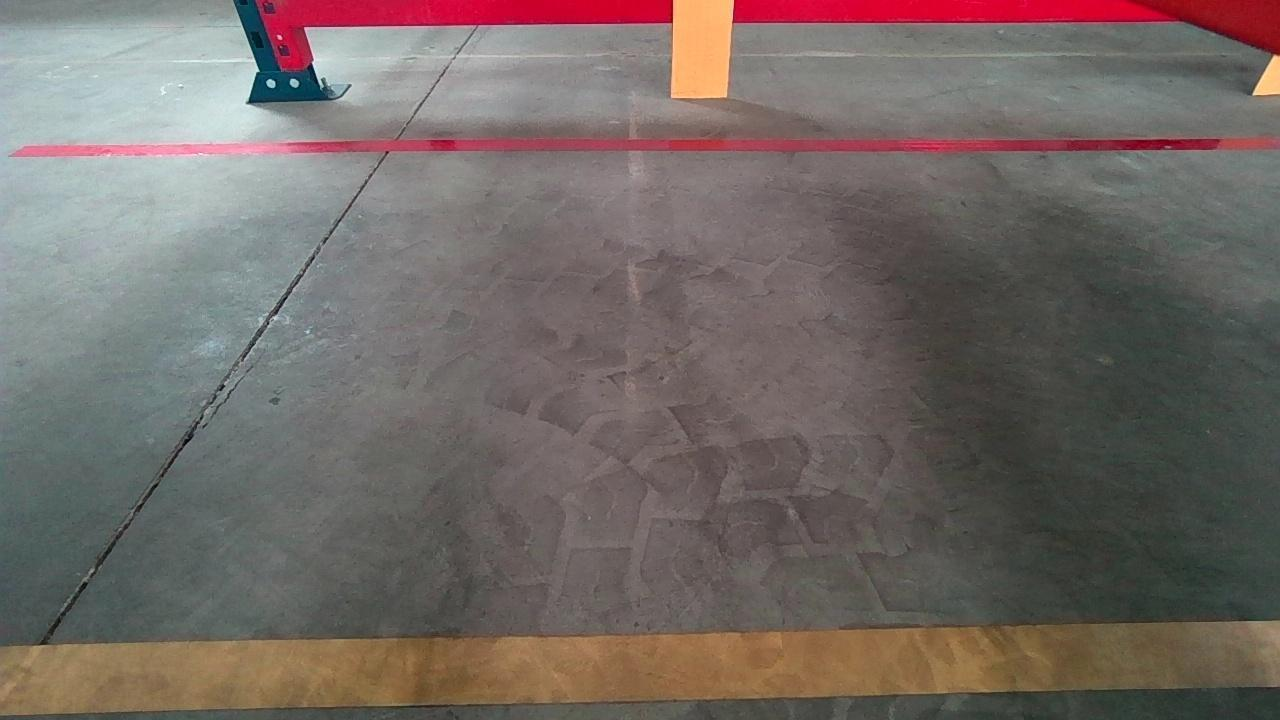red_line: (0, 134, 1280, 158)
